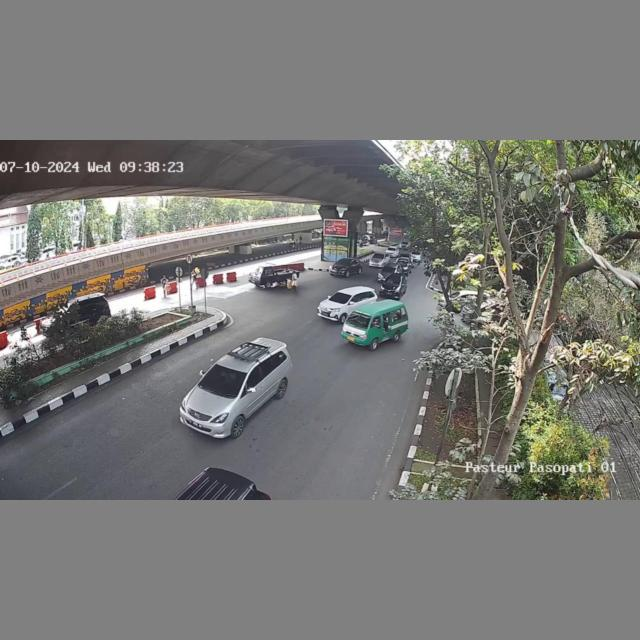windshield: (194, 364, 248, 400), (346, 311, 371, 329), (330, 292, 350, 303), (385, 277, 400, 286)
